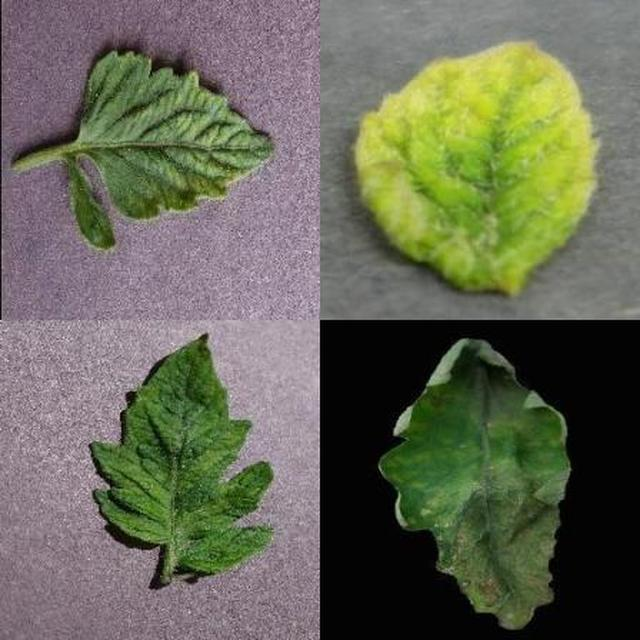Mosaic Virus Leaf: (247, 212, 640, 640)
